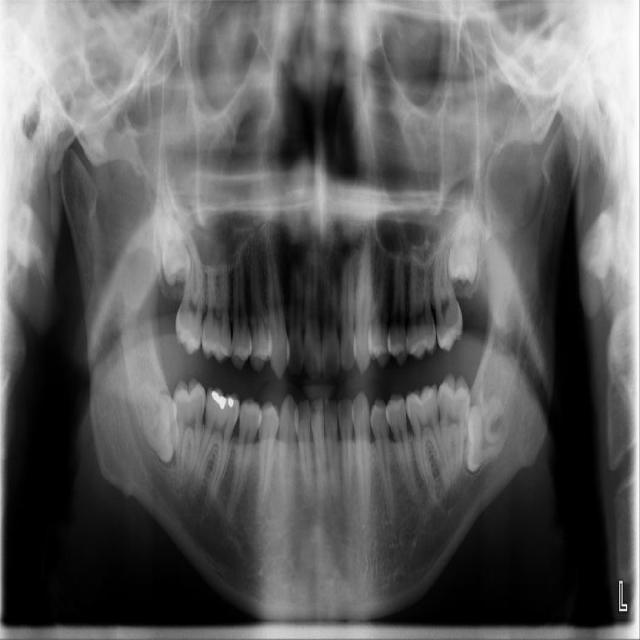Filling: (209, 389, 235, 413)
impacted tooth: (461, 400, 511, 475), (127, 383, 176, 459), (155, 185, 189, 283), (449, 186, 482, 285)
